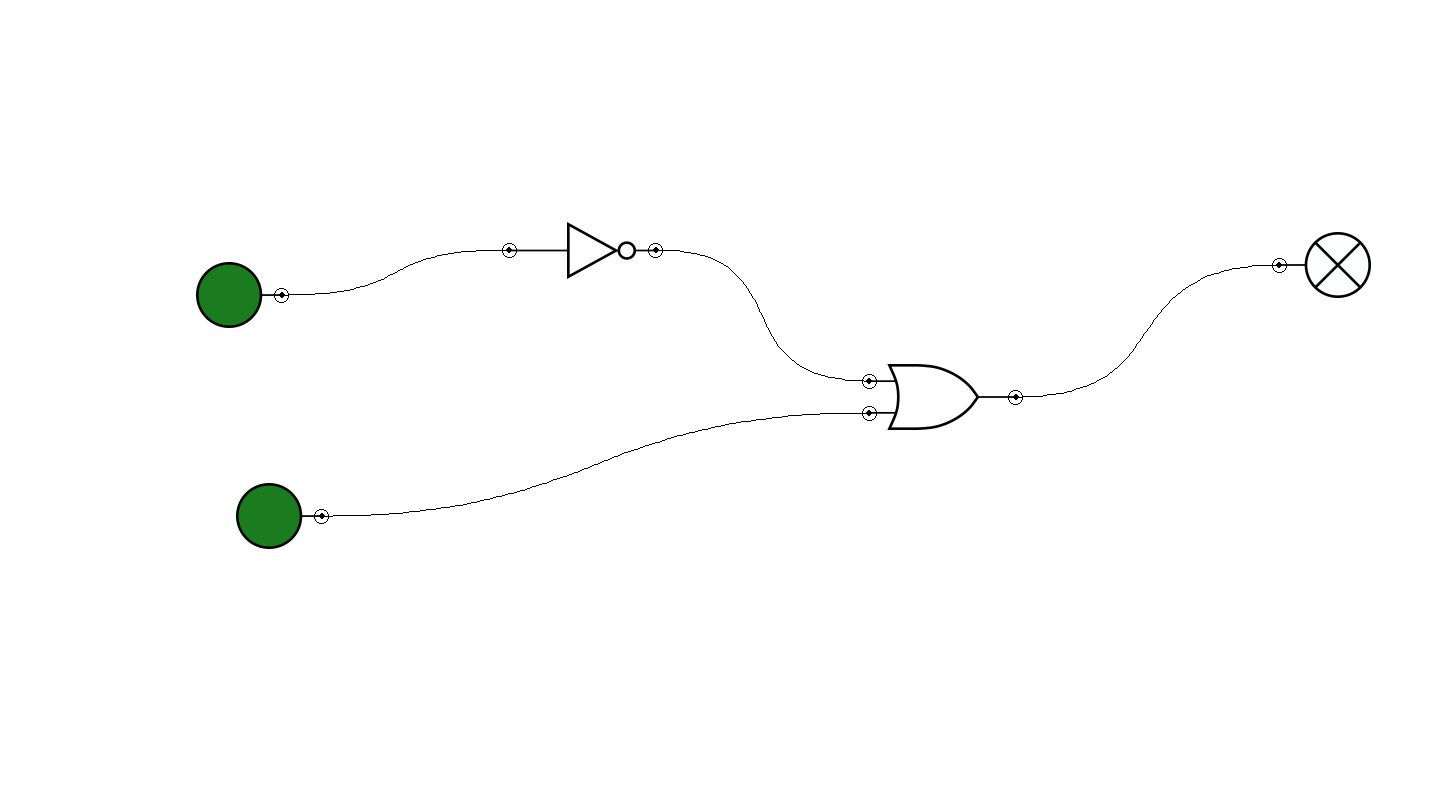bulb: (1272, 232, 1371, 298)
not: (502, 222, 663, 279)
or: (862, 364, 1023, 430)
switch_True: (236, 483, 329, 549), (196, 262, 289, 328)
